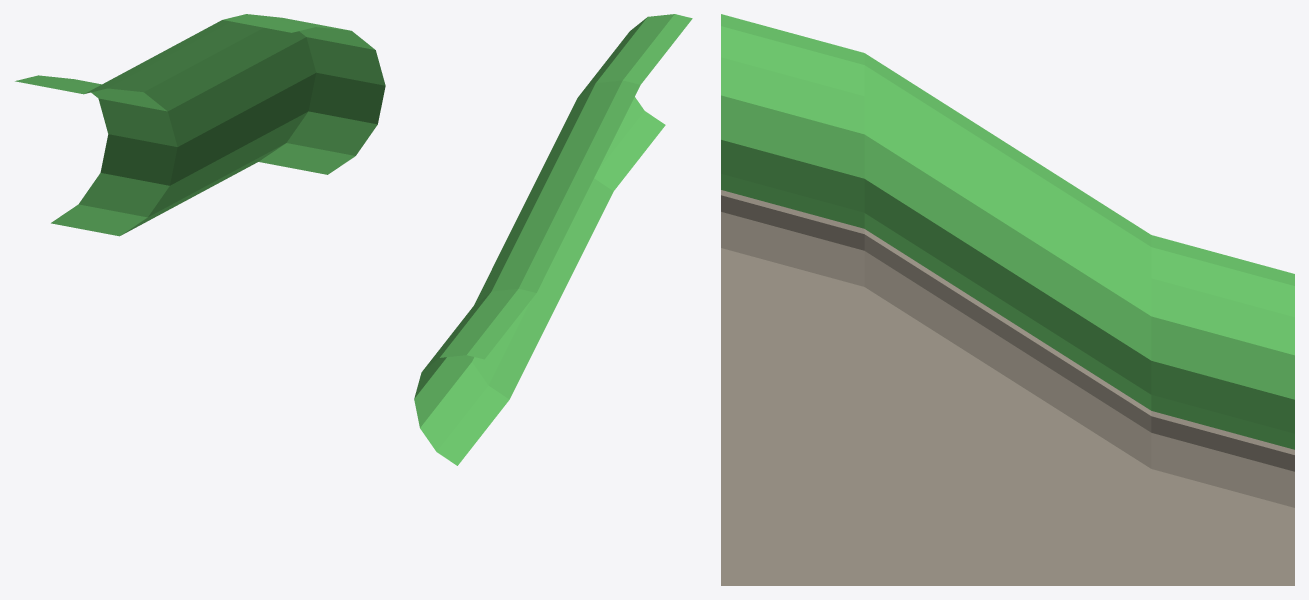
File: Escarpment_Terrain_Hill_Top.glb
The picture shows the model from 3 angles, left to right: view 1: azimuth 30°, elevation 25°; view 2: azimuth 150°, elevation 25°; view 3: azimuth 270°, elevation 25°; orthographic projection. The views are drawn at different scales.
Visible parts, largest first — view 1: Escarpment_Terrain_Hill_Top; view 2: Escarpment_Terrain_Hill_Top; view 3: Escarpment_Terrain_Hill_Top.
Part boxes in pixels (<box>): Escarpment_Terrain_Hill_Top: <box>15,14,385,236</box>; Escarpment_Terrain_Hill_Top: <box>414,14,692,465</box>; Escarpment_Terrain_Hill_Top: <box>721,14,1294,585</box>.
Size of the model in its own units: 0.3909 by 2.2 by 2.
